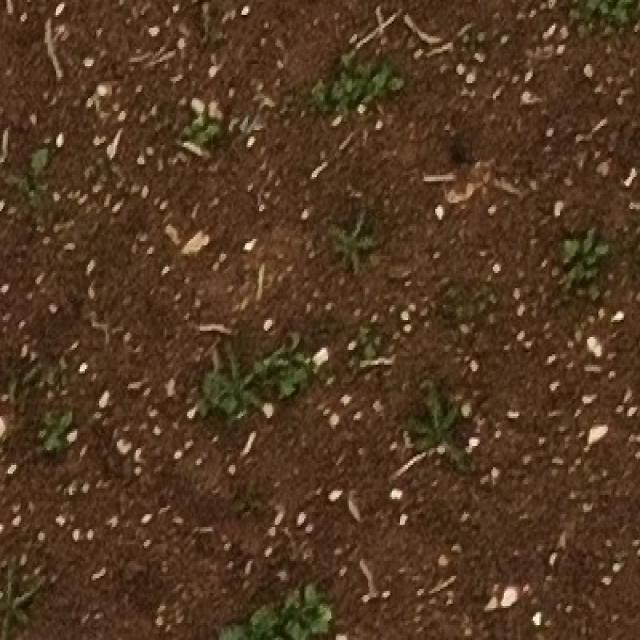cirse: (397, 394, 473, 490), (425, 378, 497, 478), (420, 381, 496, 475), (207, 345, 270, 413), (217, 347, 278, 414), (218, 365, 280, 430), (330, 209, 383, 274), (341, 215, 396, 277), (342, 213, 396, 276), (0, 568, 45, 640), (1, 568, 46, 640), (0, 578, 46, 640)
